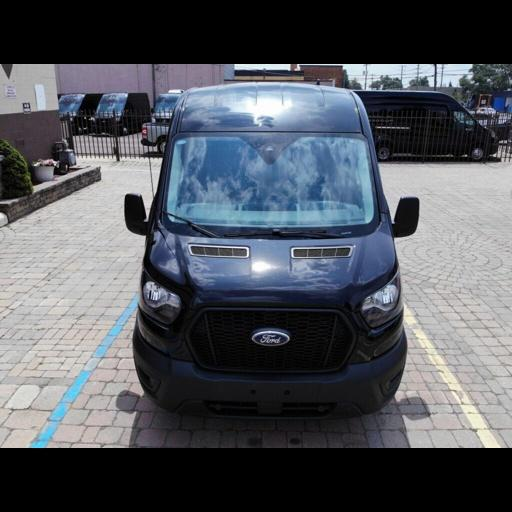truck: (141, 122, 176, 160)
van: (125, 83, 419, 418), (355, 90, 498, 160), (90, 93, 150, 134), (58, 93, 101, 133)
